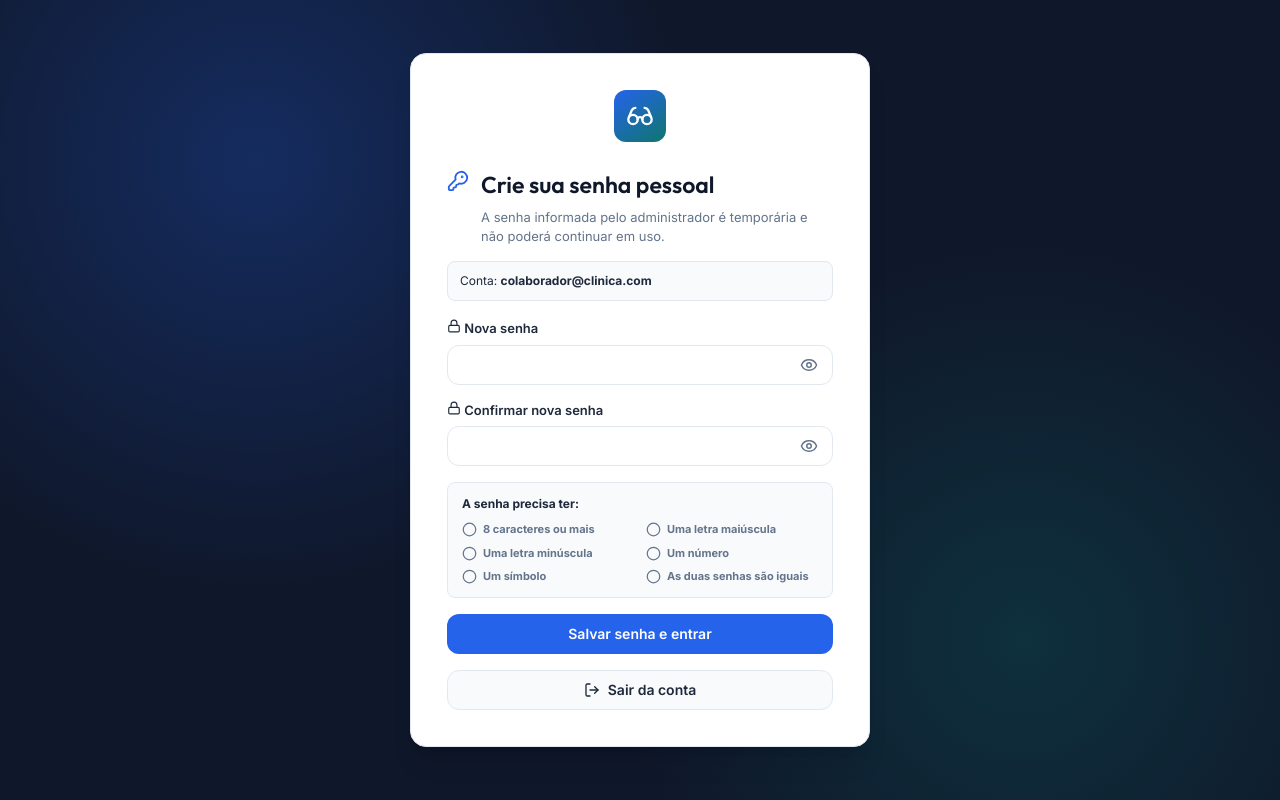
Test case: ForcedPasswordChange › orienta novo login quando a senha muda, mas a nova sessão falha
In the password field labelled "Nova senha": (640, 365) [447,345,833,385], type "NovaSenha#123"
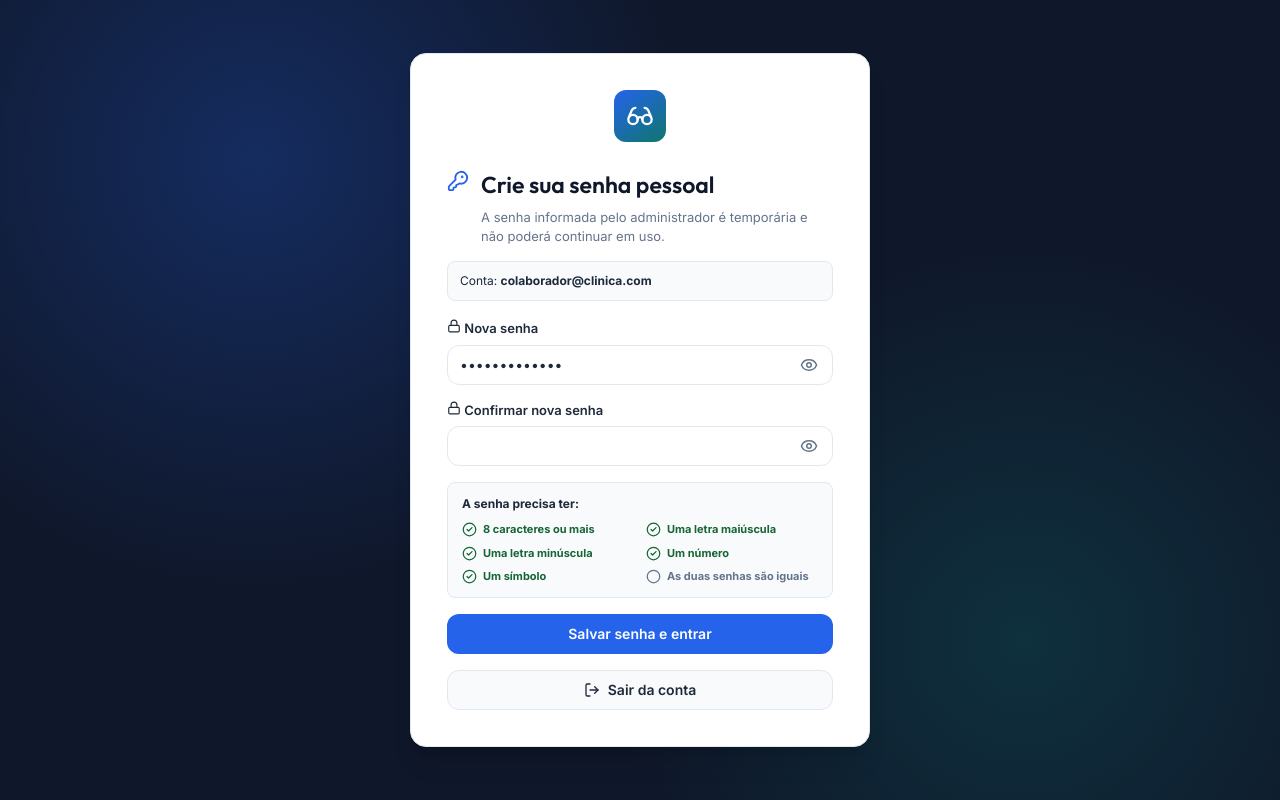
In the password field labelled "Confirmar nova senha": (640, 446) [447,426,833,466], type "NovaSenha#123"
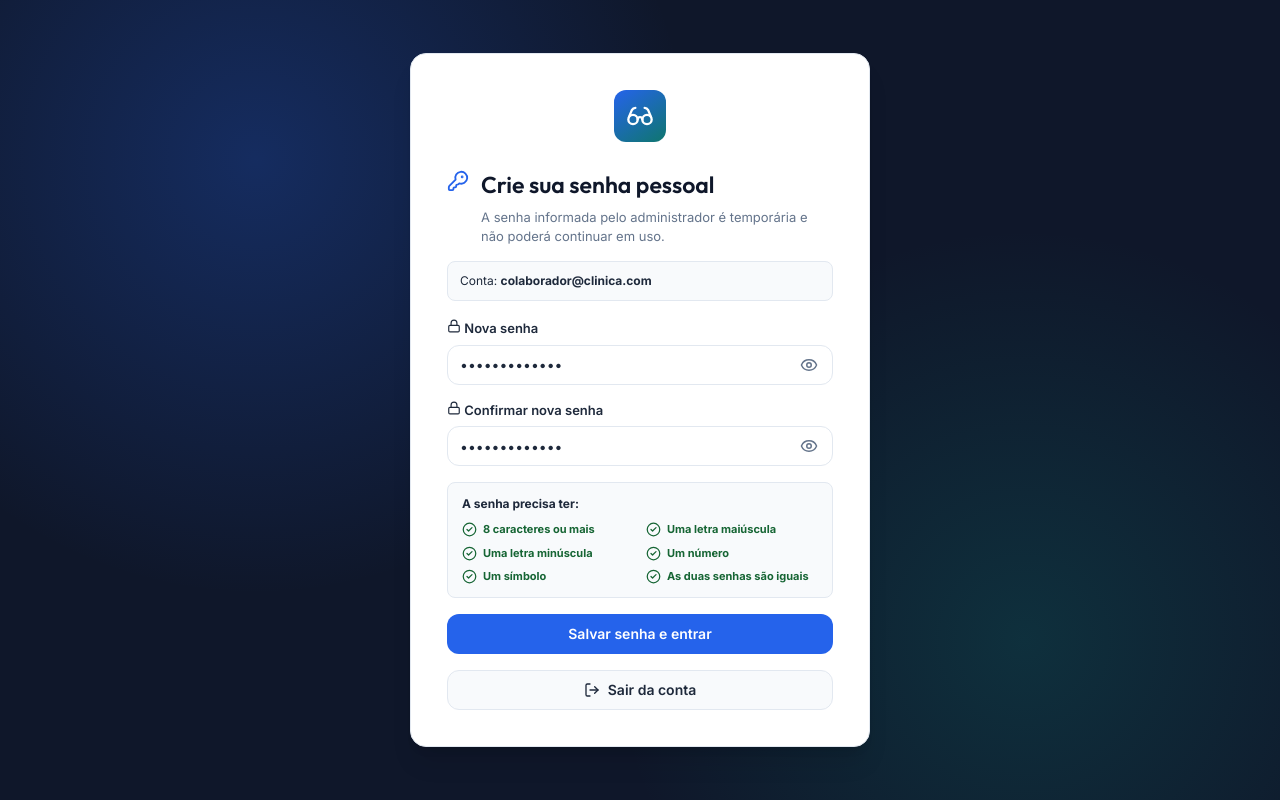
Click the button "Salvar senha e entrar": click(640, 634) [447,614,833,654]
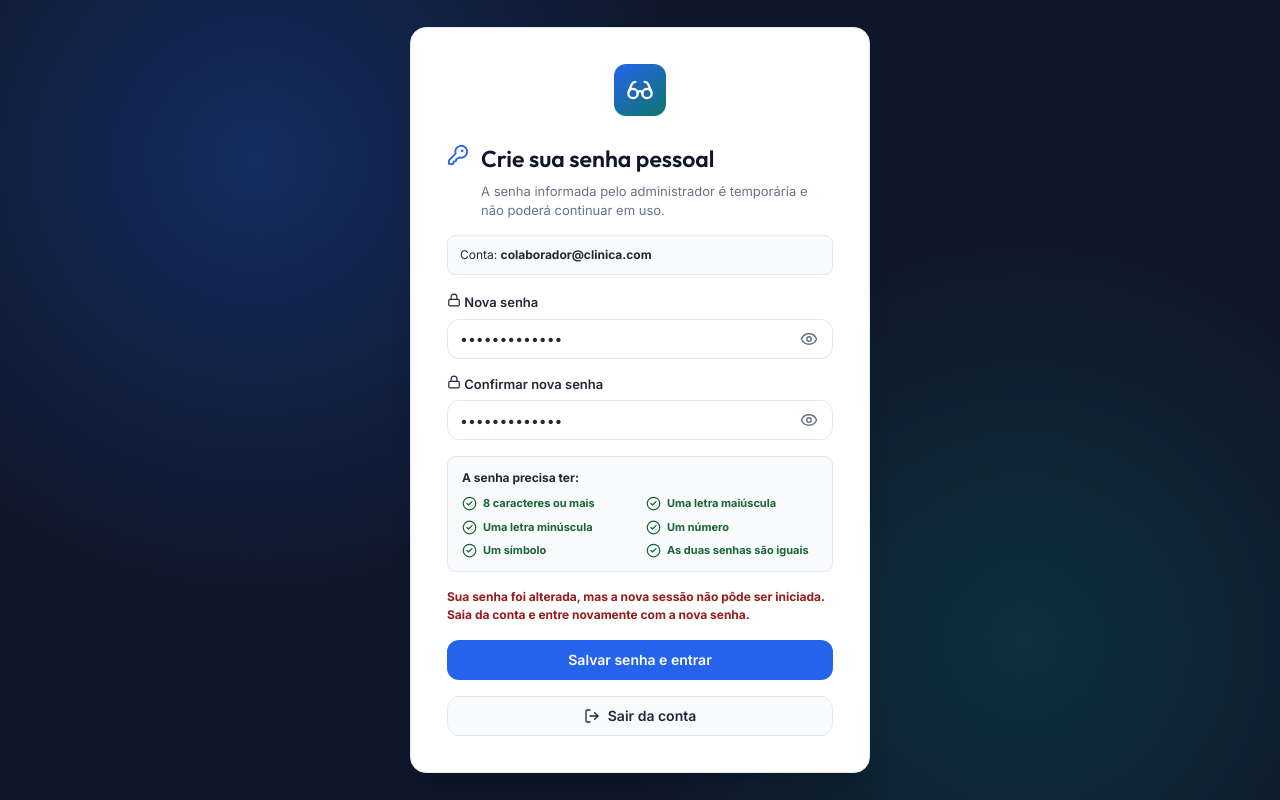
Result: the message shows "Saia da conta e entre novamente com a nova senha." at [447,589,825,622]
